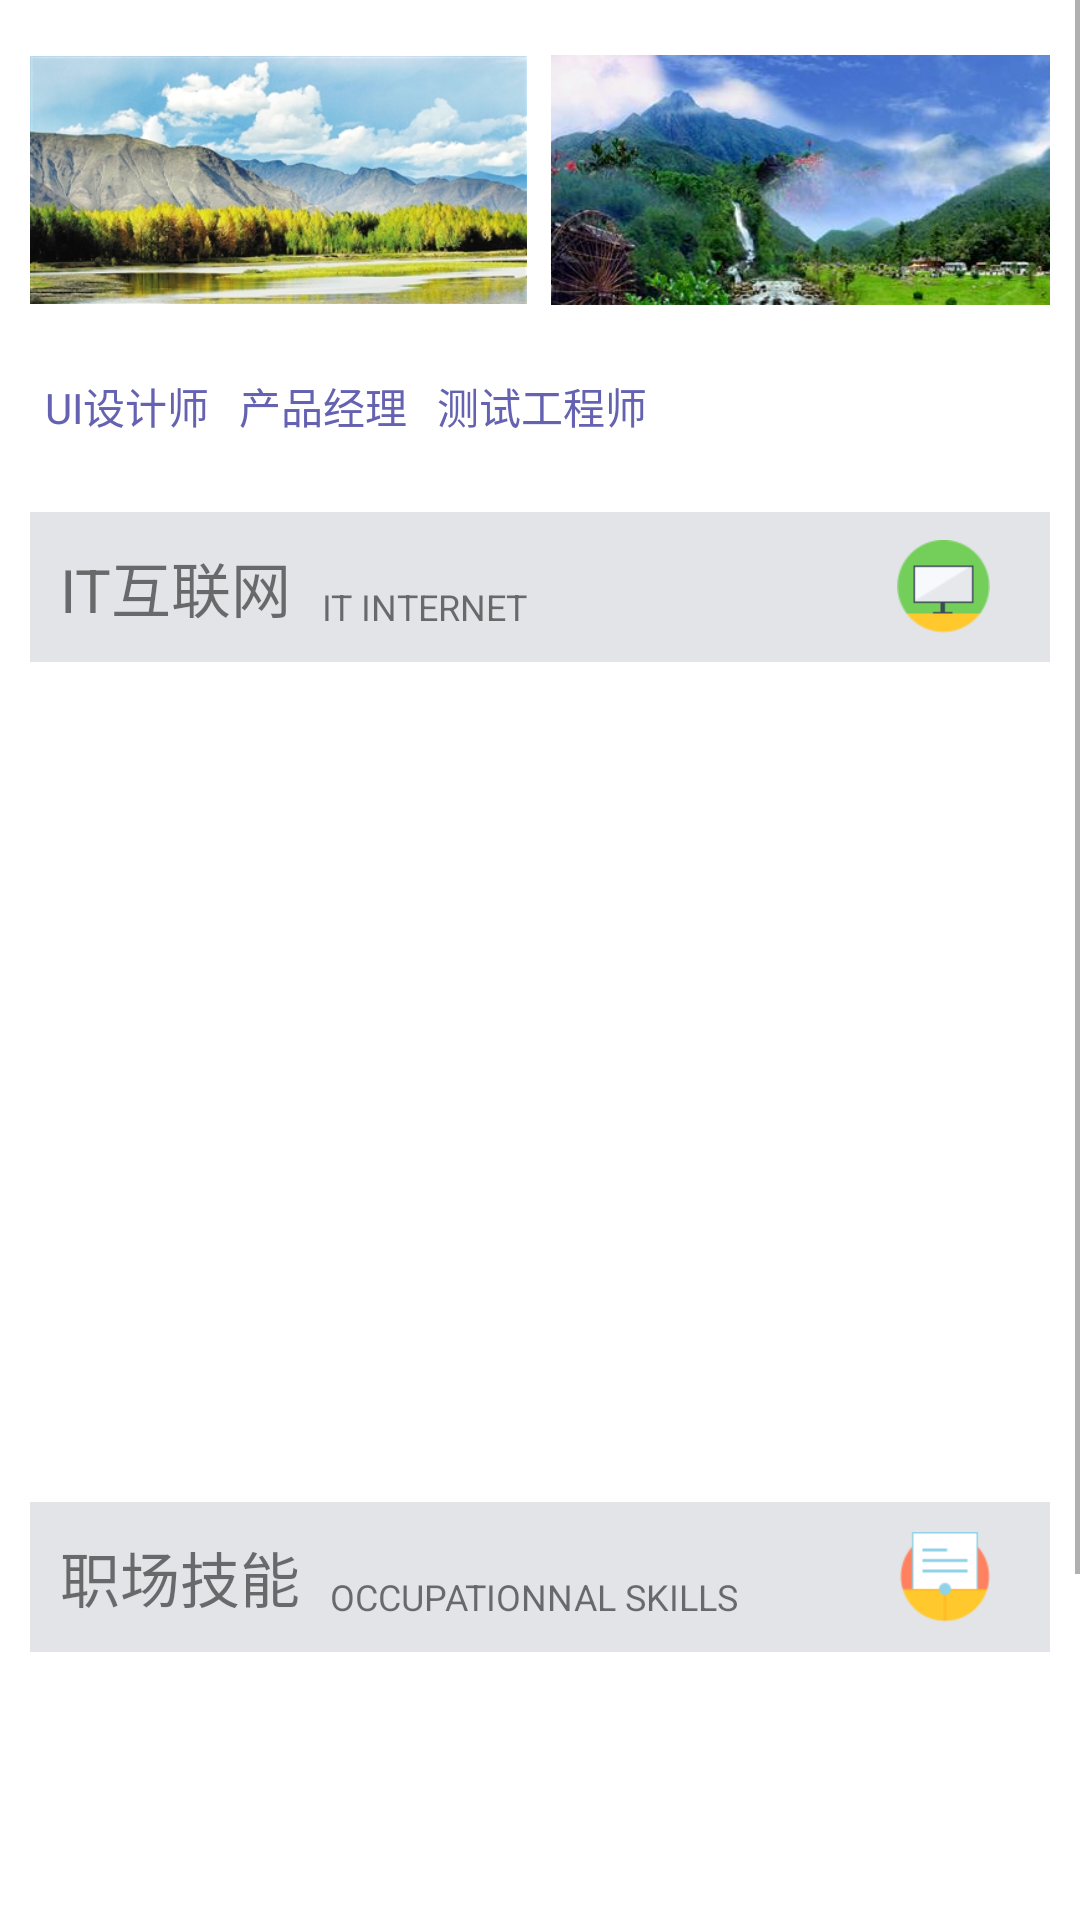

Where icons sit on this 1080 x 1920 app screen, as [left=x1, top=y1, right=x2, bottom=y2]:
course cate hlw: [left=897, top=540, right=990, bottom=633]
